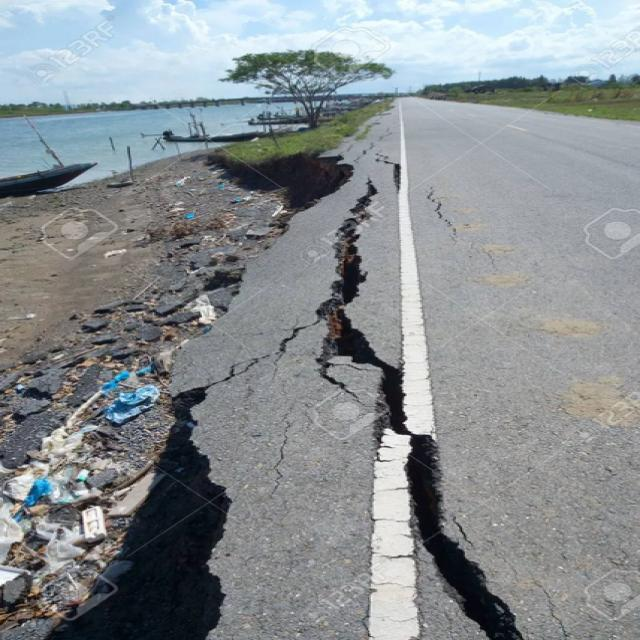Pothole: (3, 151, 493, 640)
